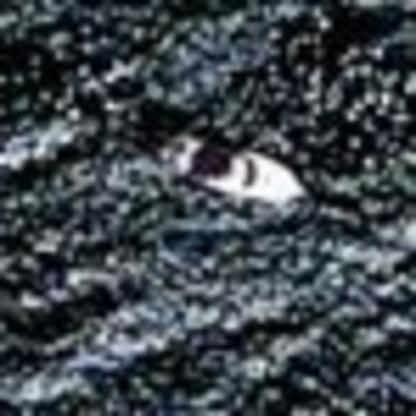ship: (150, 119, 317, 211)
